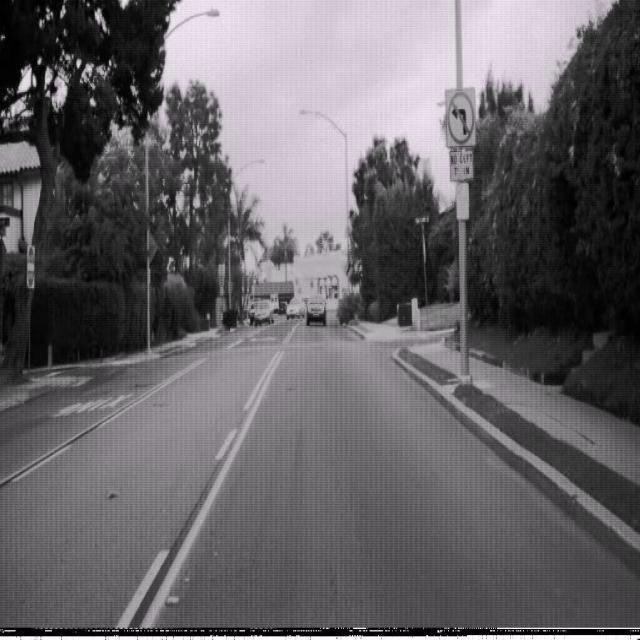noLeftTurn: (446, 87, 475, 147)
